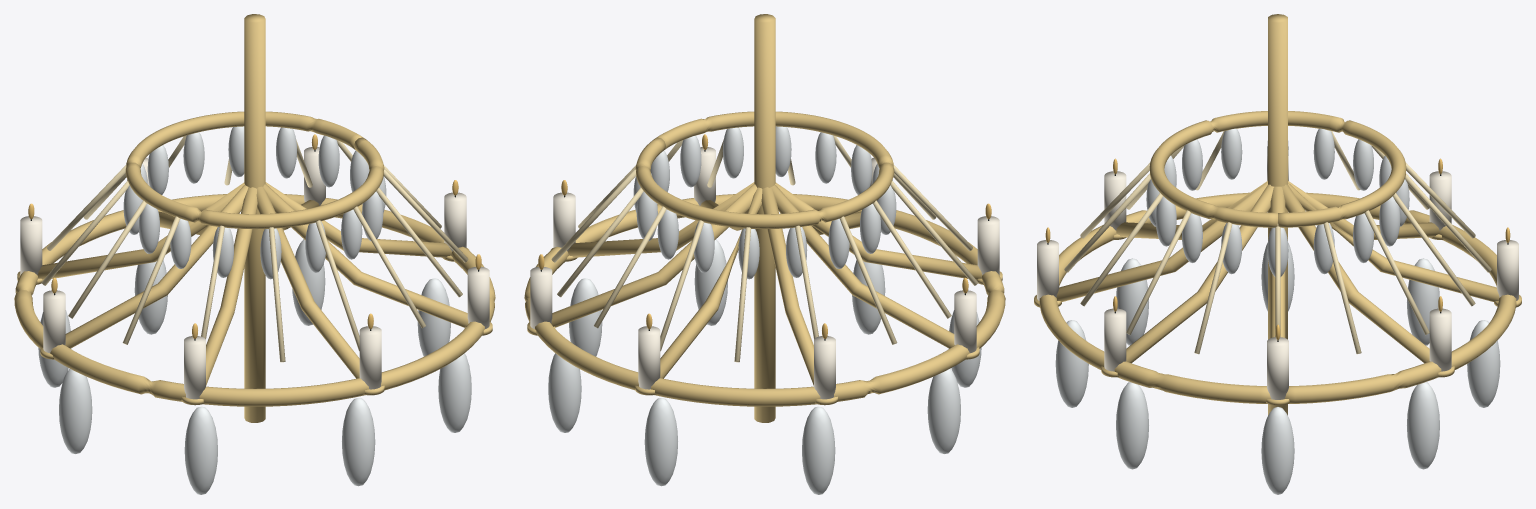
File: crystal-chandelier.glb
3 views of the same model, side by side, from view 1: azimuth 30°, elevation 25°; view 2: azimuth 150°, elevation 25°; view 3: azimuth 270°, elevation 25° (orthographic).
Visible parts, largest first — view 1: frame-0, crystals-5, chains-6, wax-1, flame-4, base-2; view 2: frame-0, crystals-5, chains-6, wax-1, flame-4, base-2; view 3: frame-0, crystals-5, chains-6, wax-1, base-2.
Part boxes in pixels (box(x1,y1,x2,y2)): frame-0: box(14, 14, 495, 422); crystals-5: box(38, 126, 471, 494); chains-6: box(41, 135, 468, 362); wax-1: box(20, 147, 489, 399); flame-4: box(28, 134, 481, 338); base-2: box(17, 248, 492, 405); frame-0: box(524, 14, 1005, 422); crystals-5: box(548, 126, 981, 494); chains-6: box(551, 135, 978, 362); wax-1: box(530, 147, 999, 399); flame-4: box(538, 134, 991, 338); base-2: box(527, 248, 1002, 405); frame-0: box(1039, 14, 1516, 415); crystals-5: box(1055, 128, 1500, 494); chains-6: box(1064, 131, 1491, 354); wax-1: box(1037, 146, 1518, 399); base-2: box(1034, 234, 1521, 405).
Bounding box in the file's own units: 1.61 × 1.45 × 1.61.
